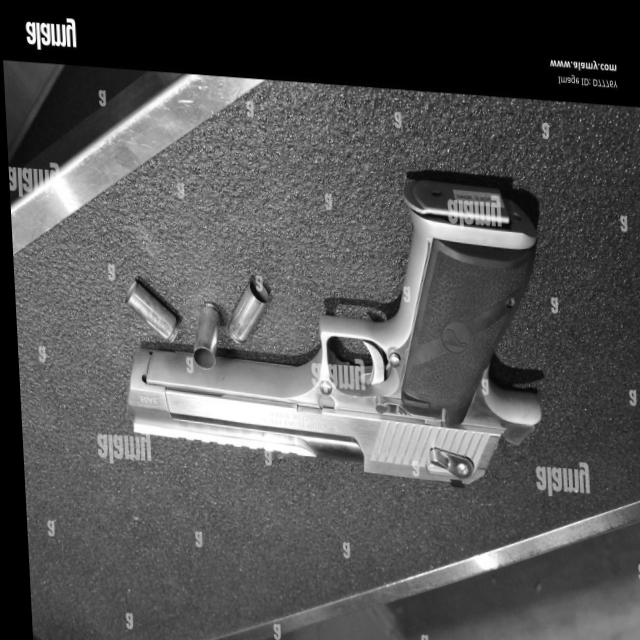handgun: (111, 143, 566, 485)
